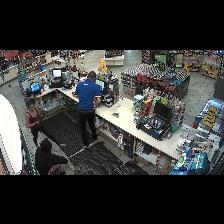person: (26, 99, 65, 147), (76, 72, 100, 148), (35, 138, 68, 174)
